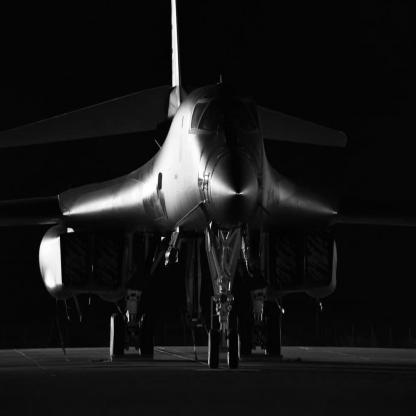B1: (2, 2, 416, 371)
